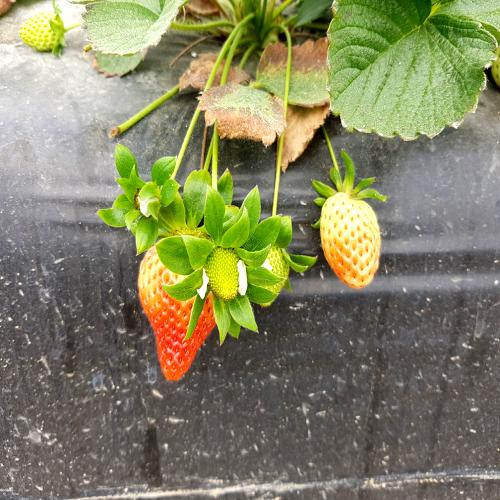partially-ripe: (136, 216, 228, 386), (322, 191, 390, 293)
